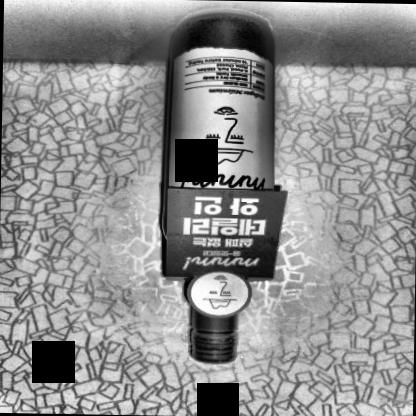umm: (165, 44, 275, 193)
